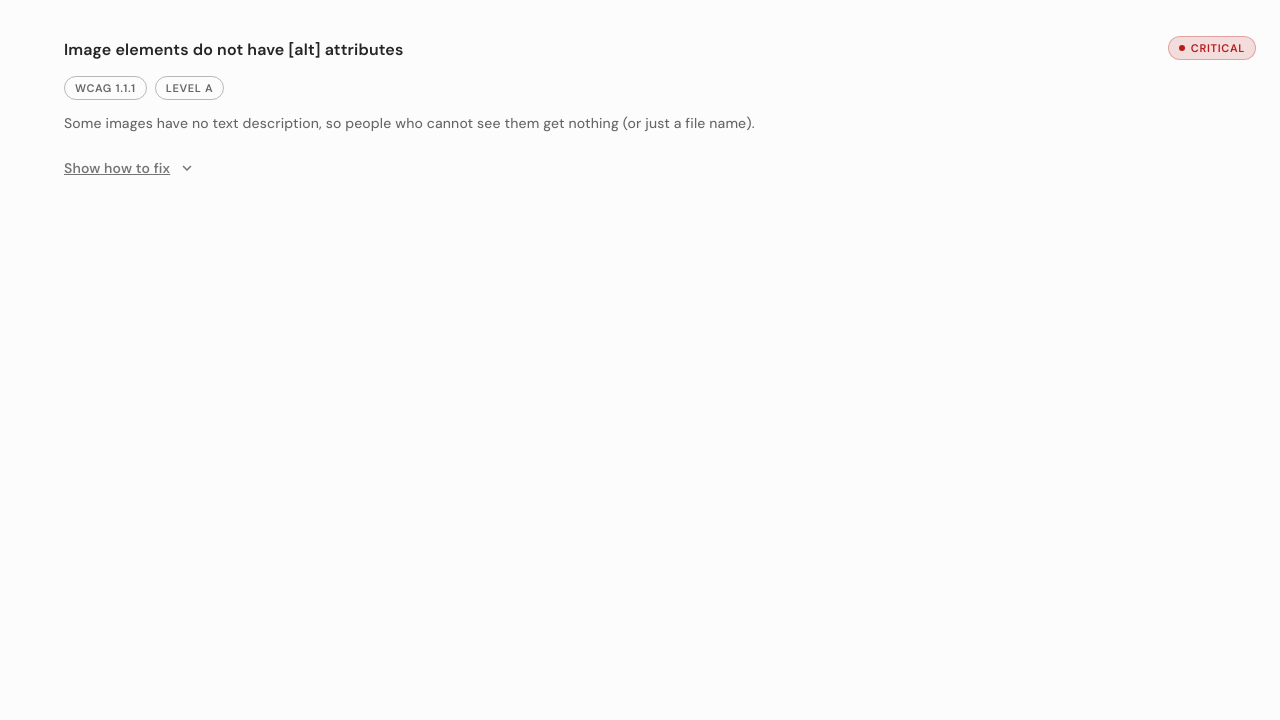
Test case: ViolationCard fix guide › expands into steps, instances, and real links
This screenshot has width=1280, height=720.
Click the button "Show how to fix" at (129, 168), box x1=52 y1=146 x2=206 y2=190
(page scrolled)
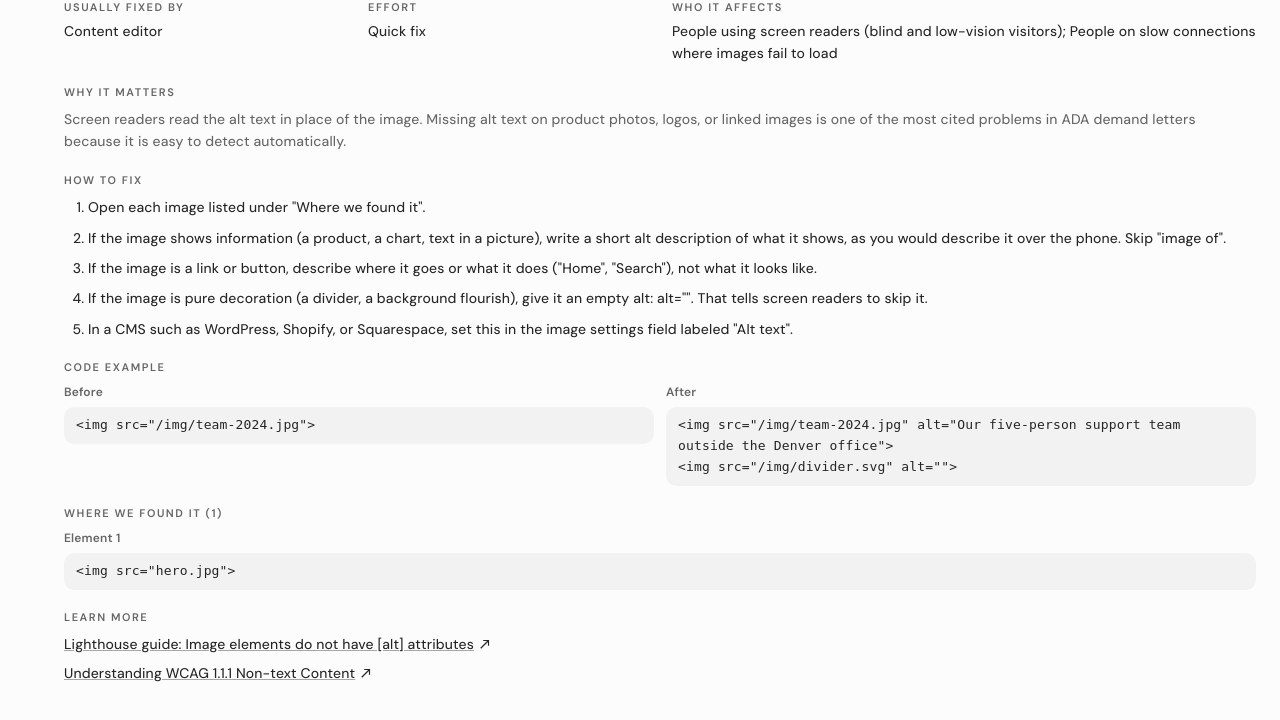
Now the heading "How to fix" is shown, box x1=64 y1=173 x2=143 y2=187
Now the heading "Where we found it (1)" is shown, box x1=64 y1=506 x2=223 y2=520
Now the text "<img src=\"hero.jpg\">" is shown, box x1=64 y1=553 x2=1256 y2=590
